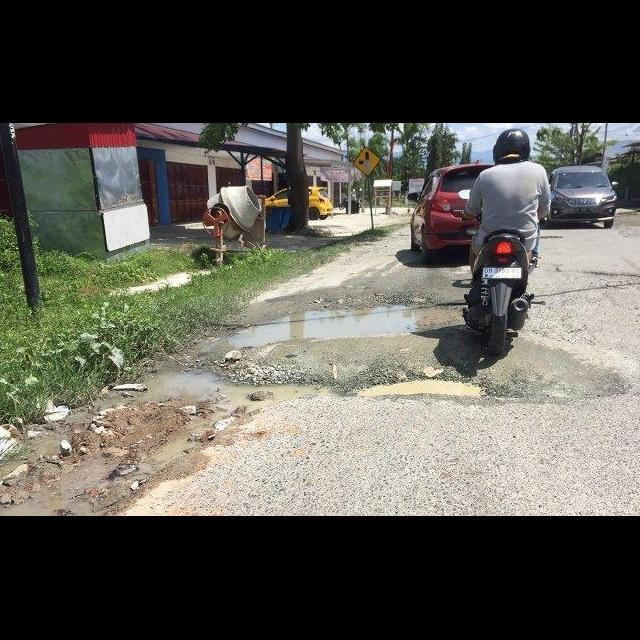lubang_kecil: (332, 345, 517, 427)
